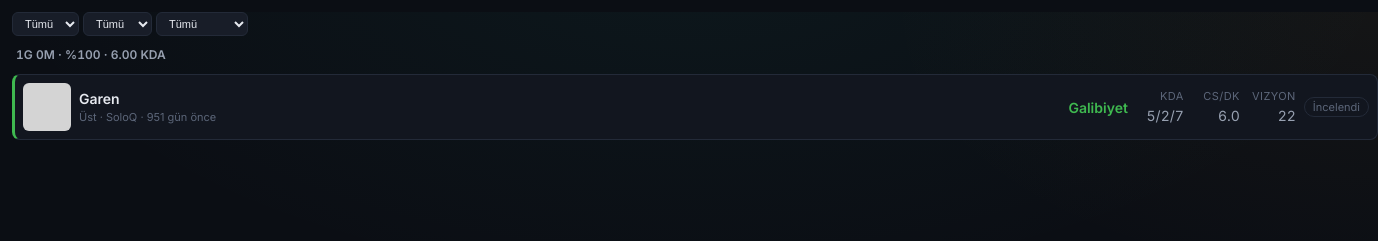
MatchHistoryView › opens the review detail panel when a reviewed row is clicked, and back returns to the list
Note: İncelenen satır tıklanabilir bir button (aria-label: openReview).
Click the button with aria-label "Garen karnesini aç" at (47, 107), box x1=12 y1=74 x2=1377 y2=140
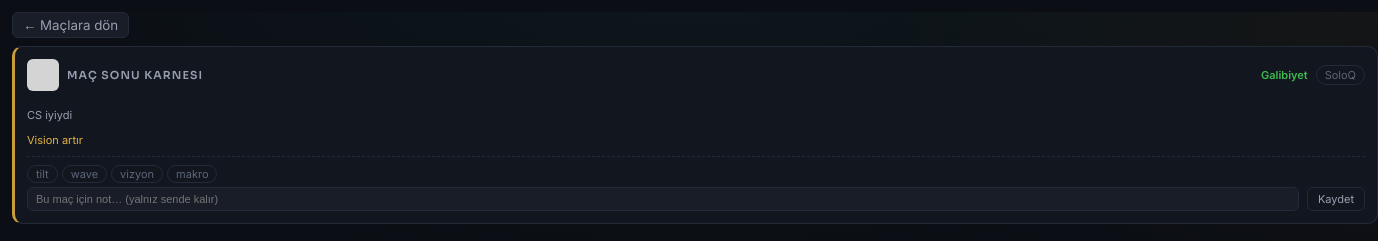
Now the text "CS iyiydi" is shown, box x1=27 y1=108 x2=72 y2=122
Now the button "← Maçlara dön" is shown
Note: Geri → listeye döner.
Click the button "← Maçlara dön" at (71, 25), box x1=12 y1=12 x2=129 y2=38
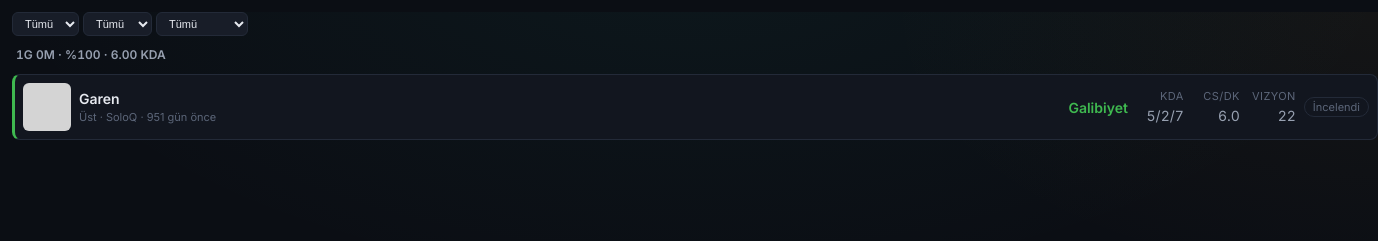
Now the button with aria-label "Garen karnesini aç" is shown, box x1=12 y1=74 x2=1377 y2=140
